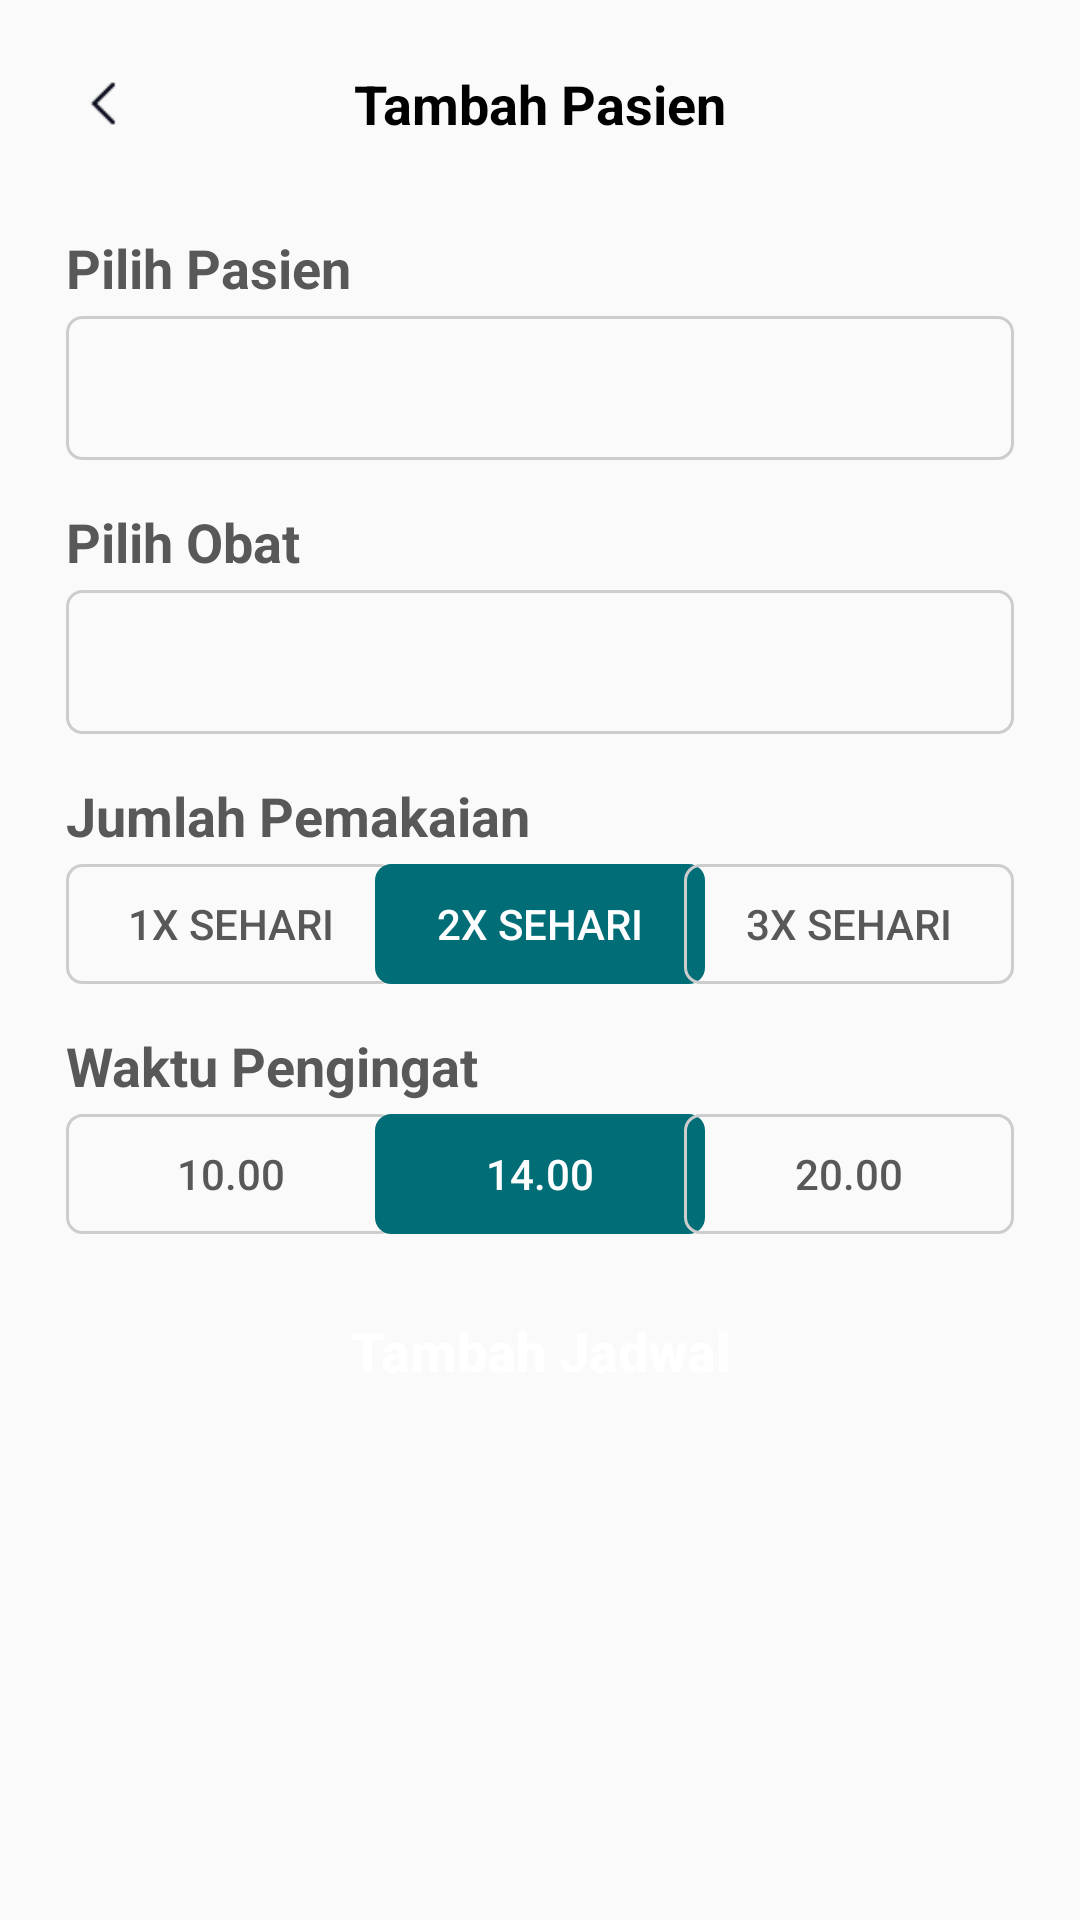

Icon bounding boxes for this 1080x1920 phone screenshot, format (x1, y1, x2, y2):
back: (91, 82, 115, 125)
